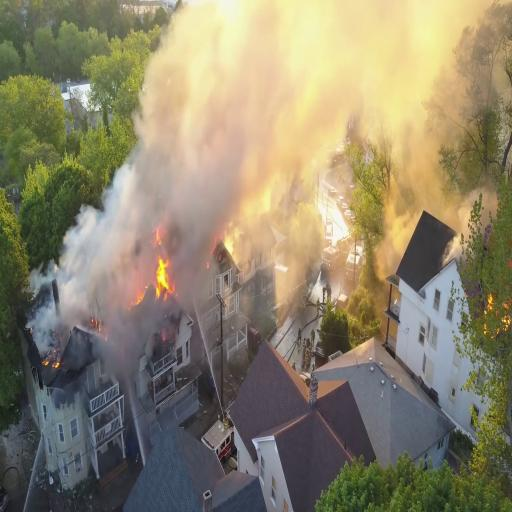fire: (149, 238, 177, 297)
smoke: (192, 5, 447, 113), (168, 6, 247, 206), (76, 212, 134, 310)
